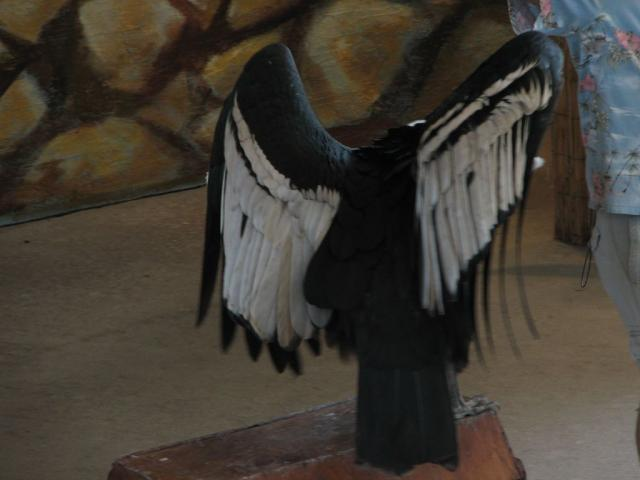Bird: (188, 20, 568, 478)
